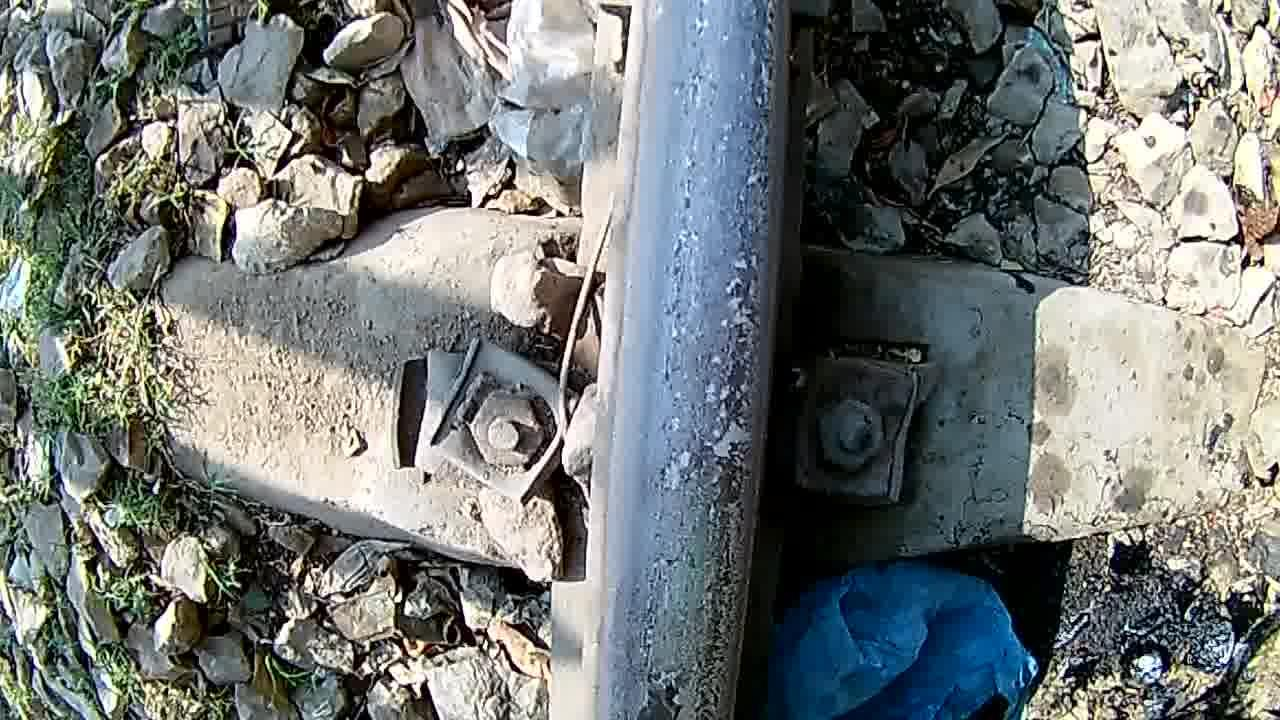clip_missing: (602, 1, 787, 720)
